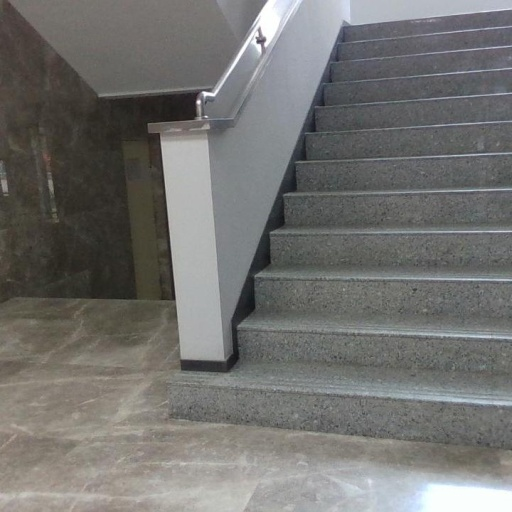Stairs: (172, 11, 512, 448)
